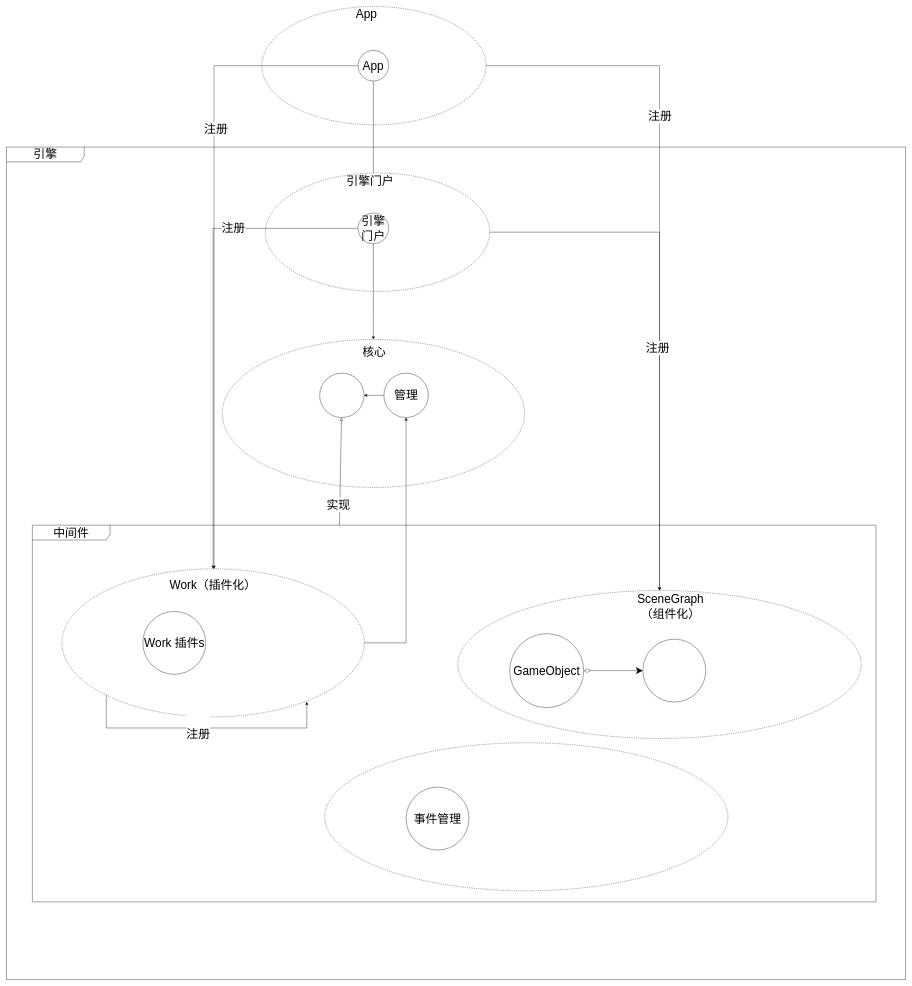
Some shapes in this 912 by 986 pixel diagram are drawn without their labels. The centre of each missing label's shape, as x and y in pixels:
"抽象" belongs at point 341,395.
"组件" belongs at point 674,670.
